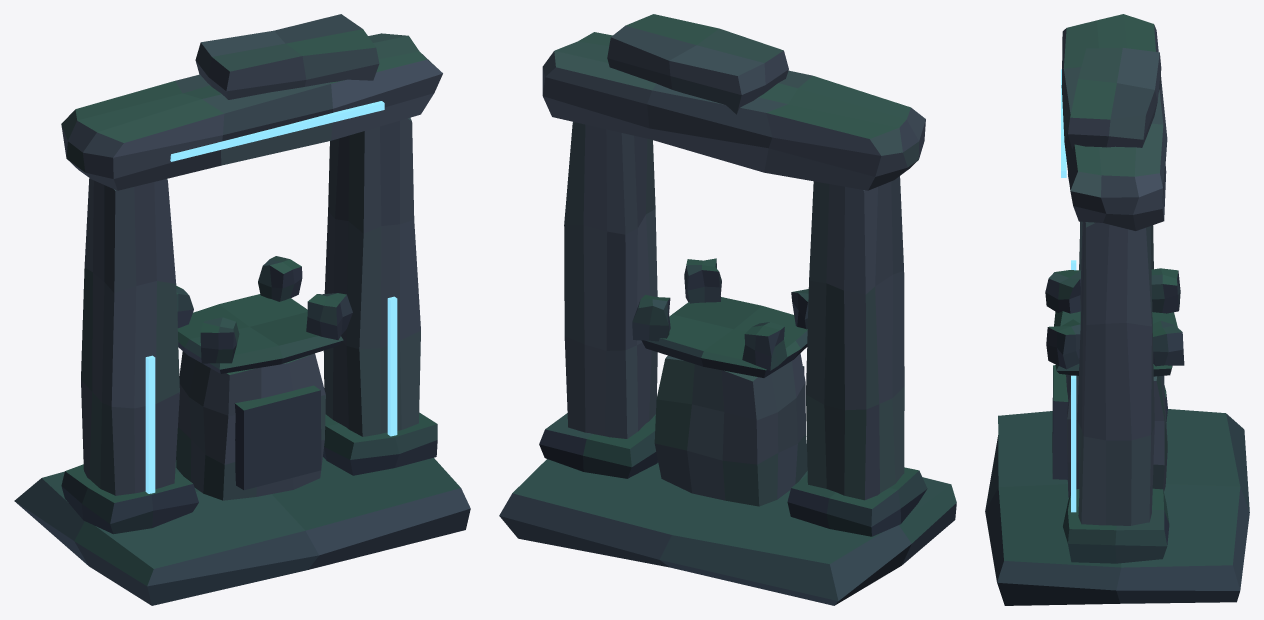
Rendered from skill_rock_3.glb.
The picture shows the model from 3 angles, left to right: view 1: azimuth 30°, elevation 25°; view 2: azimuth 150°, elevation 25°; view 3: azimuth 270°, elevation 25°; orthographic projection. The views are drawn at different scales.
Visible parts, largest first — view 1: skill_rock_3; view 2: skill_rock_3; view 3: skill_rock_3.
Boxes of the visible parts, <box> form: skill_rock_3: <box>14,14,470,605</box>; skill_rock_3: <box>499,14,956,605</box>; skill_rock_3: <box>985,14,1249,605</box>.
Bounding box in the file's own units: 3.26 × 4.15 × 2.13.
